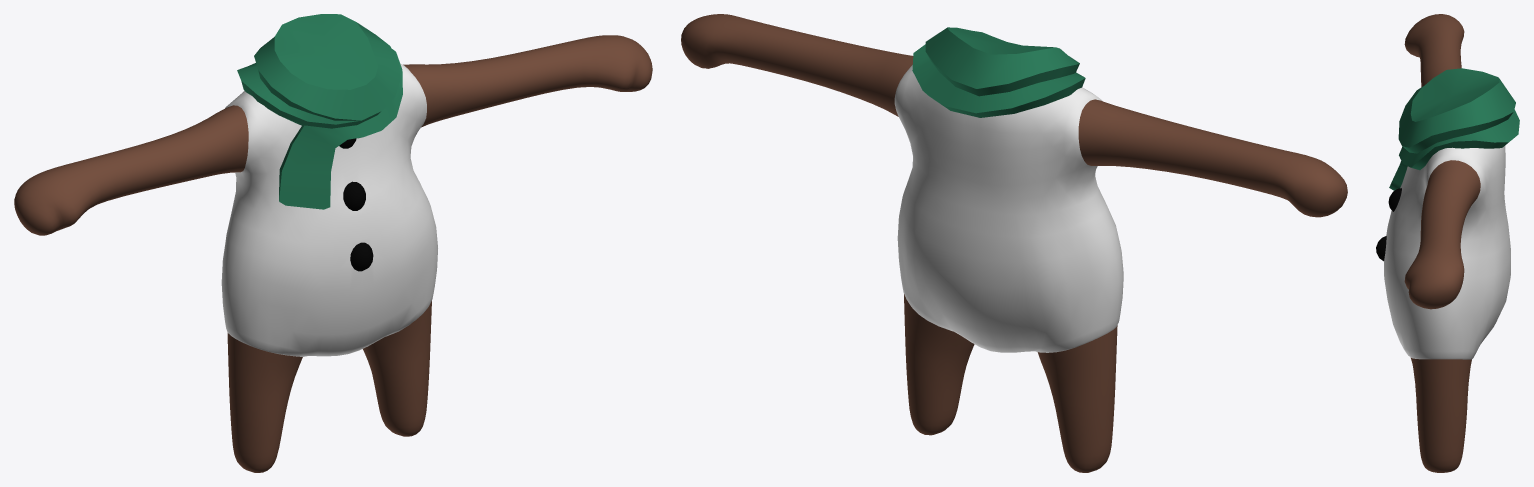
Rendered from 9雪人套装.fbx.
3 views of the same model, side by side, from view 1: azimuth 30°, elevation 25°; view 2: azimuth 150°, elevation 25°; view 3: azimuth 270°, elevation 25° (orthographic). The views are drawn at different scales.
Visible parts, largest first — view 1: 9雪人套装; view 2: 9雪人套装; view 3: 9雪人套装.
Boxes of the visible parts, x1,y1,x2,y2 form: 9雪人套装: [14, 14, 652, 472]; 9雪人套装: [681, 14, 1347, 472]; 9雪人套装: [1376, 14, 1519, 472].
Size of the model in its own units: 1.98 by 1.24 by 0.4492.
